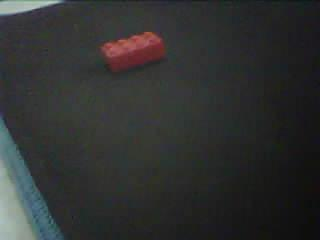lego: (98, 30, 166, 73)
